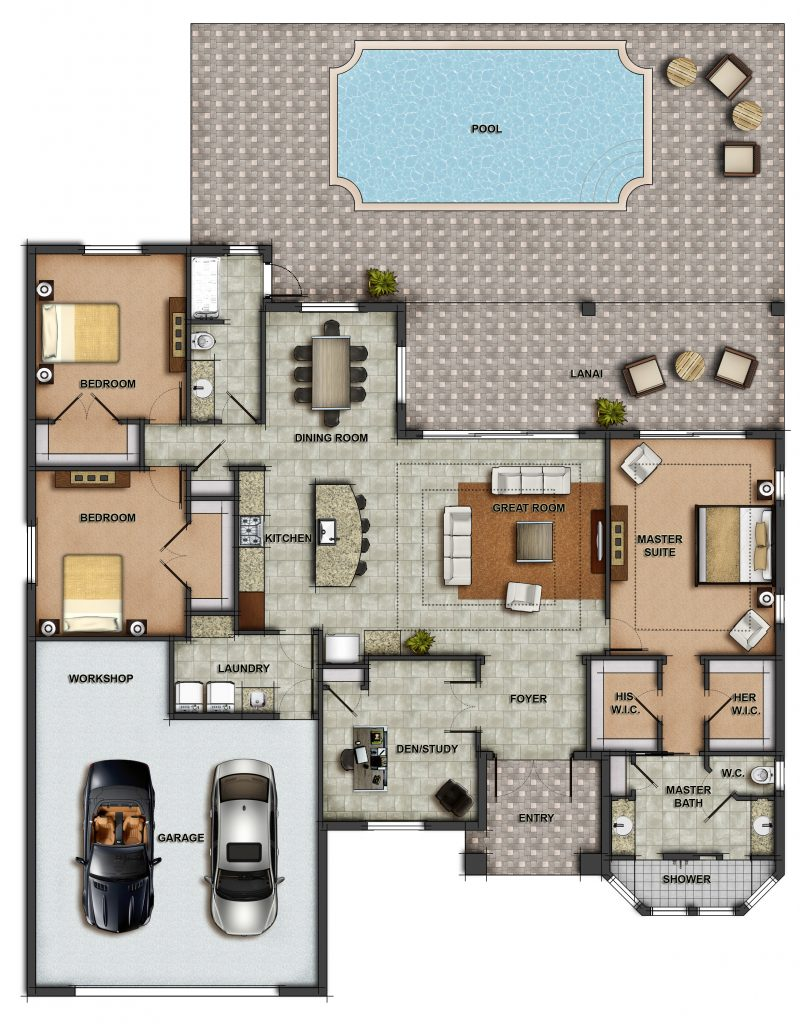room: (231, 421, 612, 647), (21, 238, 194, 478), (23, 461, 244, 644), (314, 646, 491, 833), (603, 745, 788, 920), (260, 292, 413, 451), (181, 238, 269, 434), (164, 628, 325, 723), (698, 650, 785, 757), (583, 649, 670, 756)
window: (418, 423, 583, 444), (636, 424, 754, 443), (298, 298, 363, 319), (24, 521, 39, 586), (395, 342, 410, 407), (81, 241, 147, 253), (773, 590, 789, 627), (774, 755, 788, 795), (225, 241, 264, 255), (774, 465, 787, 504)
